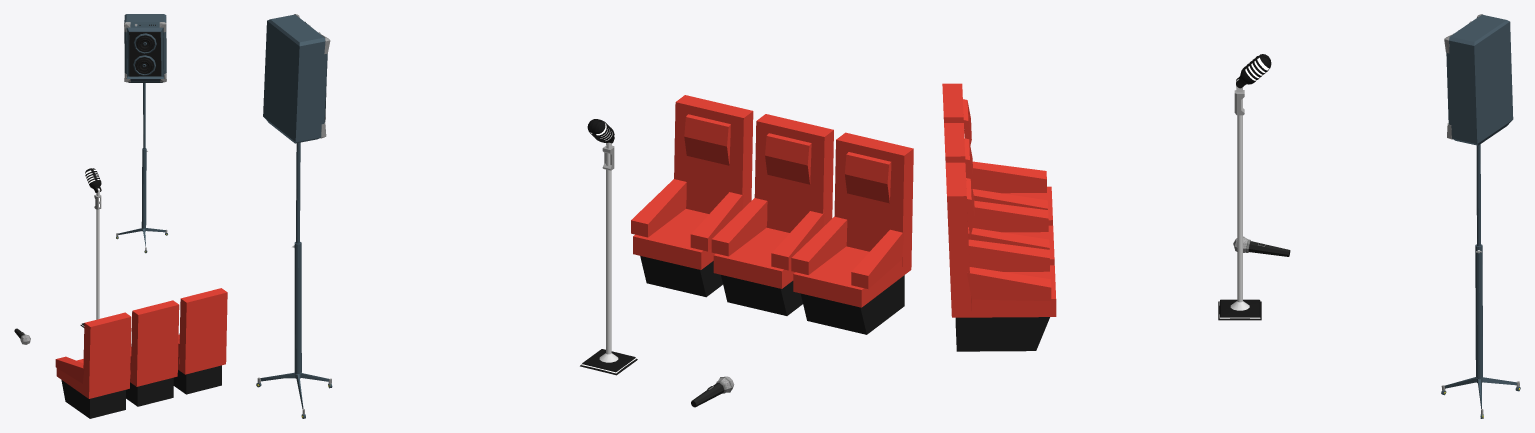
The model's file is comedy.glb.
3 views of the same model, side by side, from view 1: azimuth 30°, elevation 25°; view 2: azimuth 150°, elevation 25°; view 3: azimuth 270°, elevation 25° (orthographic). The views are drawn at different scales.
Parts seen in each view (by area): view 1: group2105590044, group21055900442, group21055900443, group437030597, group2670849903, group267084990, group2670849902, mic_001, group5498809473, group804147110, group16022742133; view 2: group437030597, group21055900443, group2105590044, group21055900442, group16022742133, group2670849903, mic_001, group16022742132, group1602274213, group267084990, group2670849902, group746795832 (+9 smaller); view 3: group437030597, group2105590044, group267084990, mic_001, group975455076, group549880947, group5498809472, group5498809473, group1602274213, group804147110, group9754550762, group9754550763 (+3 smaller).
Boxes of the visible parts, box(x1,y1,x2,y2) form: group2105590044: box(179, 288, 227, 374); group21055900442: box(130, 300, 179, 386); group21055900443: box(83, 312, 131, 398); group437030597: box(124, 14, 166, 82); group2670849903: box(61, 380, 125, 418); group267084990: box(173, 365, 221, 394); group2670849902: box(126, 377, 173, 406); mic_001: box(80, 168, 101, 327); group5498809473: box(55, 356, 84, 383); group804147110: box(141, 148, 146, 228); group16022742133: box(56, 359, 83, 394); group437030597: box(263, 14, 330, 143); group21055900443: box(834, 132, 913, 276); group2105590044: box(674, 95, 753, 213); group21055900442: box(754, 114, 833, 232); group16022742133: box(793, 246, 901, 307); group2670849903: box(800, 275, 904, 334); mic_001: box(580, 119, 637, 375); group16022742132: box(713, 227, 795, 288); group1602274213: box(633, 209, 715, 269); group267084990: box(640, 256, 722, 297); group2670849902: box(721, 275, 802, 315); group746795832: box(765, 133, 811, 184); group437030597: box(1444, 14, 1513, 145); group2105590044: box(945, 162, 971, 317); group267084990: box(955, 317, 1049, 351); mic_001: box(1218, 54, 1271, 320); group975455076: box(967, 267, 1051, 300); group549880947: box(968, 239, 1049, 271); group5498809472: box(967, 200, 1048, 232); group5498809473: box(965, 161, 1046, 193); group1602274213: box(971, 265, 1056, 317); group804147110: box(1475, 244, 1482, 378); group9754550762: box(968, 227, 1049, 249); group9754550763: box(972, 189, 1047, 209).
Size of the model in its own units: 14.58 by 13.41 by 18.06.
Materials: 15 (1 with a texture image).
